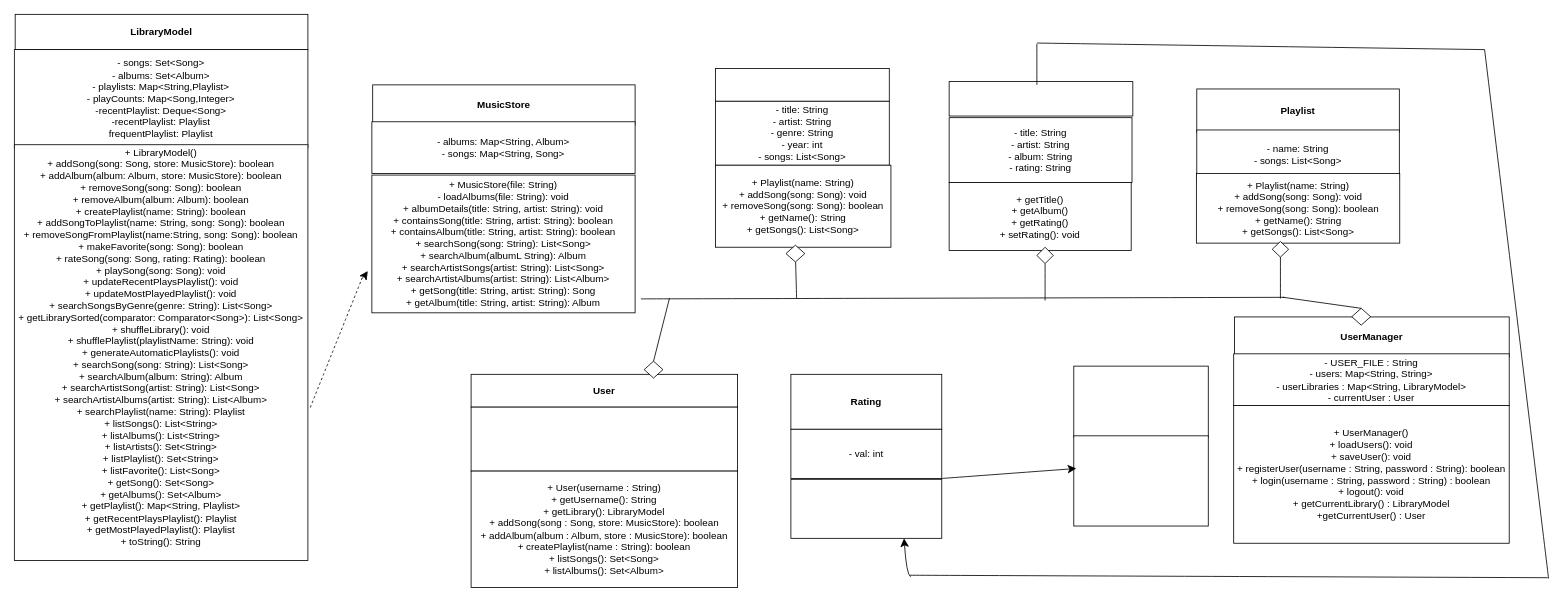
The diagram is 1563 pixels wide and 602 high, and some of its shapes have lost their labels. The shapes that lost their labels are listed below. From the top down, each one's box as (x1, y1, x2, y2) in pixels, then its label:
(715, 68, 889, 101): Album
(948, 81, 1133, 116): Song
(1073, 365, 1208, 437): enumeration val
(470, 406, 738, 471): - username: String - library: LibraryModel
(1073, 435, 1208, 526): ONE TWO THREE FOUR FIVE
(790, 478, 942, 538): + Rating(val: int) + getValue(): int + toString(): String
